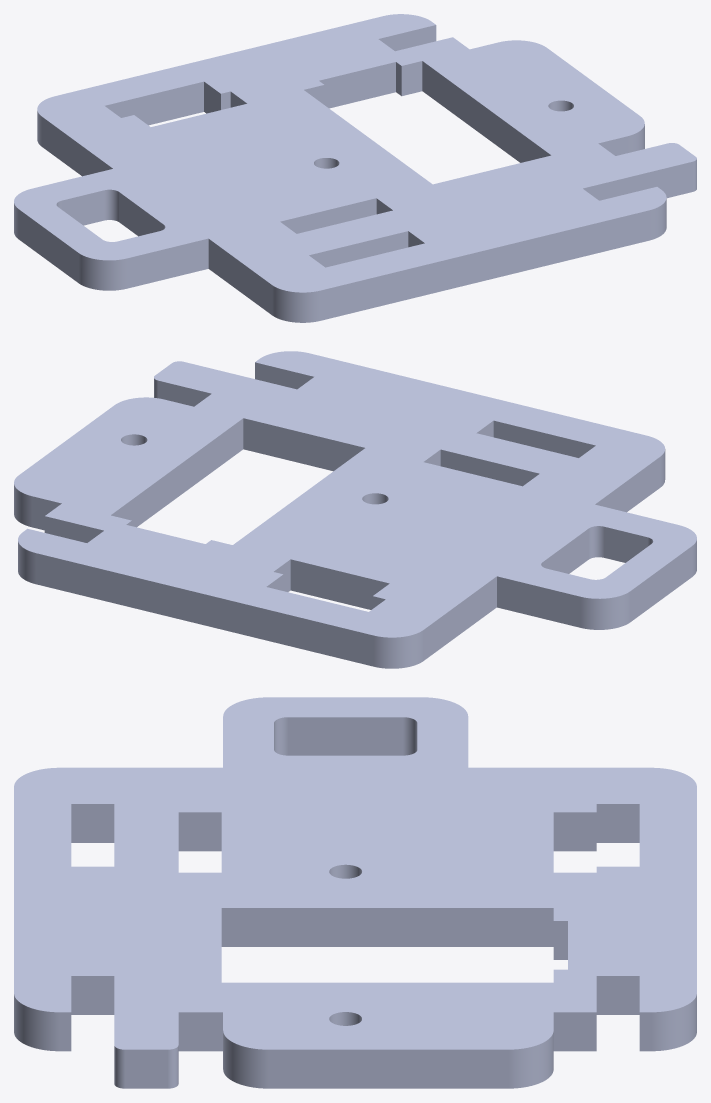
Rendered from ara-c3-rev1.glb.
3 views of the same model, one above another, from view 1: azimuth 30°, elevation 25°; view 2: azimuth 150°, elevation 25°; view 3: azimuth 270°, elevation 25° (orthographic). The views are drawn at different scales.
Parts seen in each view (by area): view 1: ARA_C3_Rev1; view 2: ARA_C3_Rev1; view 3: ARA_C3_Rev1.
Part boxes in pixels (x1=…): ARA_C3_Rev1: x1=14, y1=14, x2=696, y2=322; ARA_C3_Rev1: x1=14, y1=351, x2=696, y2=668; ARA_C3_Rev1: x1=14, y1=697, x2=696, y2=1088.
Size of the model in its own units: 0.0582 by 0.003 by 0.0477.
